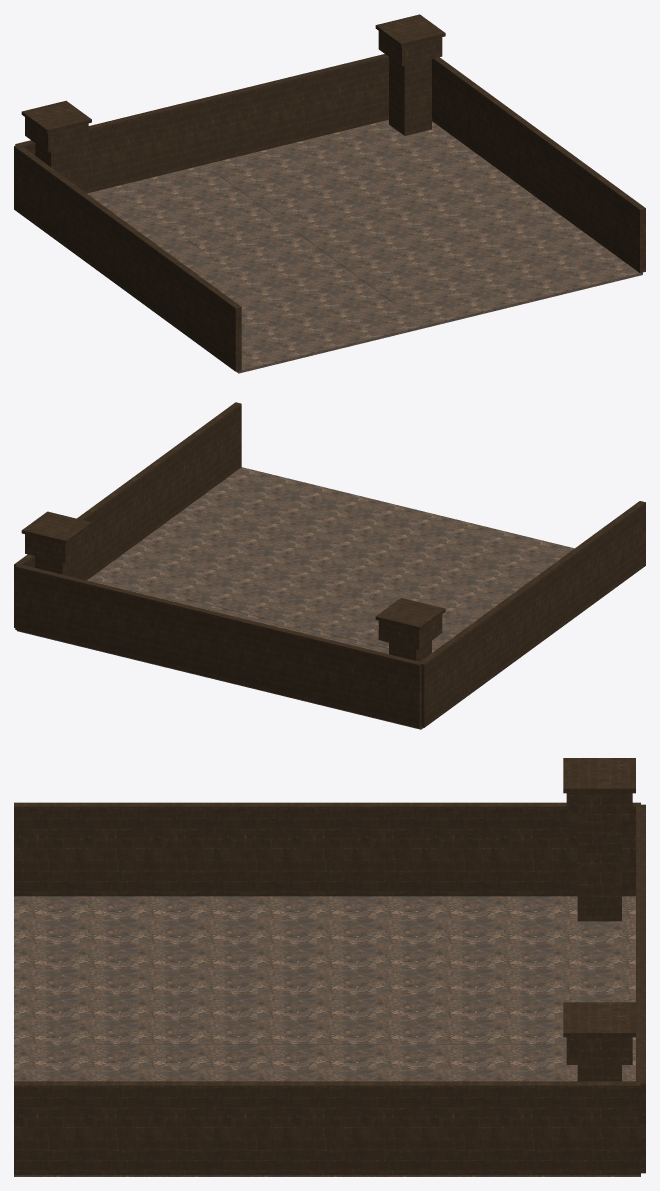
Rendered from yard-rebuilt.glb.
3 renders of one model, top to bottom at view 1: azimuth 30°, elevation 25°; view 2: azimuth 150°, elevation 25°; view 3: azimuth 270°, elevation 25°, orthographic. The views are drawn at different scales.
Visible parts, largest first — view 1: 院子石地, 院子后墙, 院子侧墙, 院子侧墙.001, 中央道路, 横向道路, 塔基.001, 塔顶, 塔顶.001, 瞭望室.001, 瞭望室, 塔基; view 2: 院子石地, 院子后墙, 院子侧墙, 院子侧墙.001, 横向道路, 中央道路, 塔顶, 塔顶.001, 瞭望室, 瞭望室.001, 塔基.001, 塔基; view 3: 院子石地, 院子侧墙.001, 院子侧墙, 中央道路, 横向道路, 塔基, 院子后墙, 塔顶, 塔顶.001, 瞭望室, 瞭望室.001, 塔基.001.
Part boxes in pixels (x1,y1,x2,y2): 院子石地: (87, 120, 642, 373); 院子后墙: (15, 54, 388, 193); 院子侧墙: (14, 144, 241, 371); 院子侧墙.001: (432, 57, 645, 272); 中央道路: (220, 168, 427, 304); 横向道路: (185, 186, 415, 251); 塔基.001: (389, 57, 431, 135); 塔顶: (21, 100, 91, 133); 塔顶.001: (375, 14, 445, 46); 瞭望室.001: (378, 31, 442, 66); 瞭望室: (25, 117, 88, 152); 塔基: (35, 143, 78, 186); 院子石地: (17, 467, 574, 729); 院子后墙: (15, 564, 421, 728); 院子侧墙: (419, 501, 645, 727); 院子侧墙.001: (14, 402, 241, 627); 横向道路: (185, 585, 388, 648); 中央道路: (270, 533, 427, 632); 塔顶: (375, 598, 445, 630); 塔顶.001: (21, 511, 91, 543); 瞭望室: (378, 614, 442, 649); 瞭望室.001: (25, 528, 88, 563); 塔基.001: (35, 554, 78, 578); 塔基: (389, 640, 431, 661); 院子石地: (14, 896, 640, 1176); 院子侧墙.001: (14, 1081, 640, 1175); 院子侧墙: (14, 802, 640, 896); 中央道路: (96, 1022, 566, 1044); 横向道路: (383, 960, 436, 1081); 塔基: (577, 821, 621, 921); 院子后墙: (636, 804, 645, 1173); 塔顶: (563, 758, 635, 793); 塔顶.001: (563, 1002, 635, 1037); 瞭望室: (566, 793, 632, 820); 瞭望室.001: (566, 1037, 632, 1064); 塔基.001: (577, 1065, 621, 1081).
Size of the model in its own units: 40.6 by 9.49 by 38.3.
2 materials, 2 textured.
